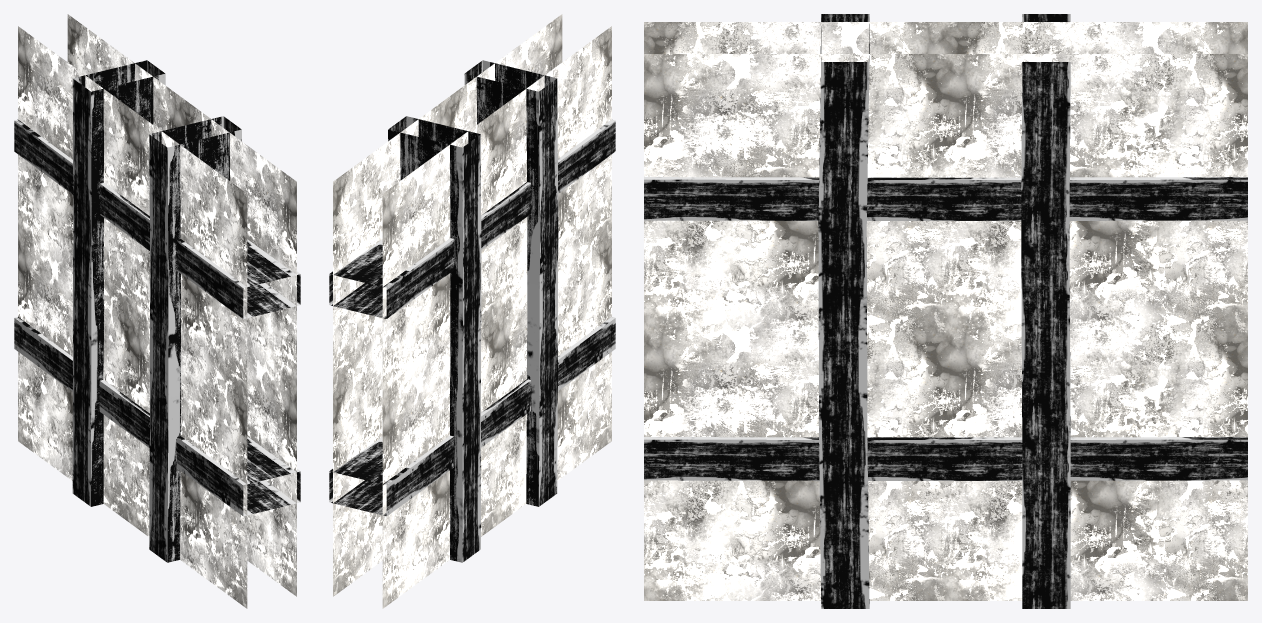
Rendered from SM_wall_A_4x4_02_03.fbx.
The picture shows the model from 3 angles, left to right: view 1: azimuth 30°, elevation 25°; view 2: azimuth 150°, elevation 25°; view 3: azimuth 270°, elevation 25°; orthographic projection. The views are drawn at different scales.
Visible parts, largest first — view 1: SM_wall_A_4x4_02_03_LOD0; view 2: SM_wall_A_4x4_02_03_LOD0; view 3: SM_wall_A_4x4_02_03_LOD0.
Boxes of the visible parts, x1=… form: SM_wall_A_4x4_02_03_LOD0: x1=14, y1=14, x2=300, y2=608; SM_wall_A_4x4_02_03_LOD0: x1=329, y1=14, x2=615, y2=608; SM_wall_A_4x4_02_03_LOD0: x1=644, y1=14, x2=1247, y2=608.
Size of the model in its own units: 75 by 400 by 400.
Materials: 3 (3 with a texture image).
